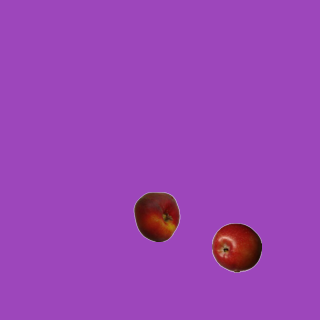Apple Braeburn: (211, 222, 261, 272)
Nectarine Flat: (131, 191, 181, 241)
